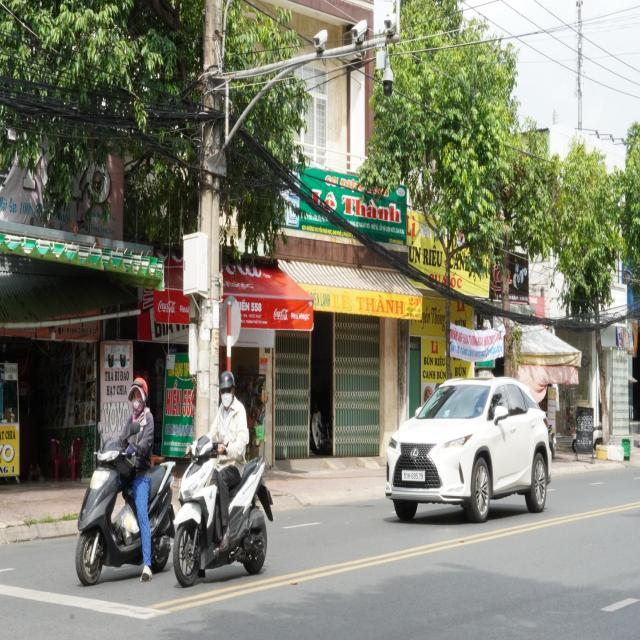normal: (36, 354, 283, 587), (350, 336, 561, 523)
